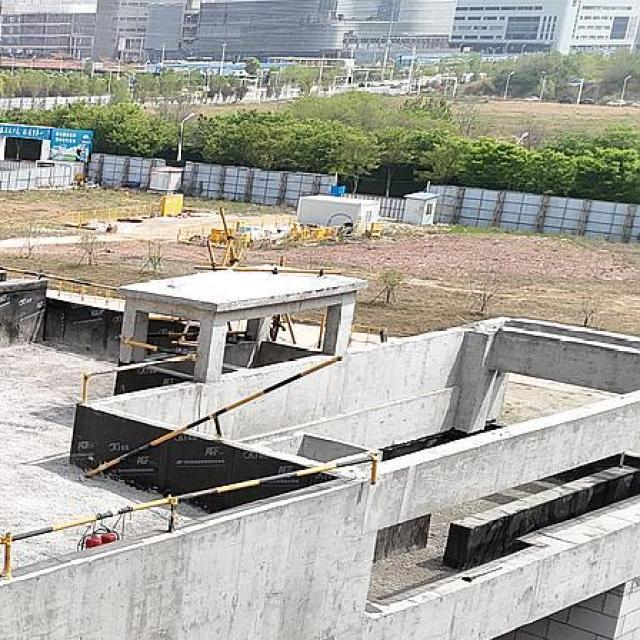edge_guardrail: (1, 455, 376, 575), (84, 356, 350, 479), (81, 338, 195, 405), (0, 265, 120, 292)
